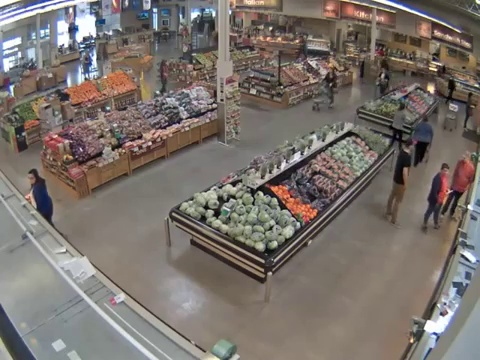face: (27, 172, 35, 184), (463, 154, 471, 163), (442, 167, 449, 176), (328, 68, 333, 73)
